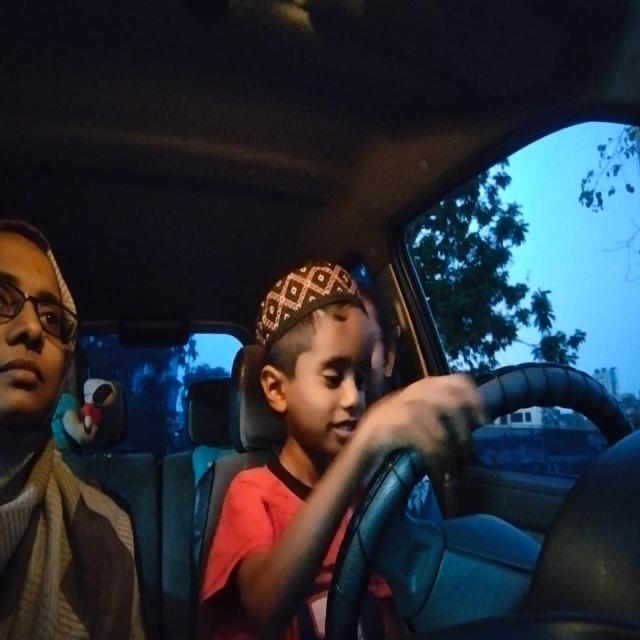child: (250, 279, 378, 455)
person: (0, 213, 77, 424)
